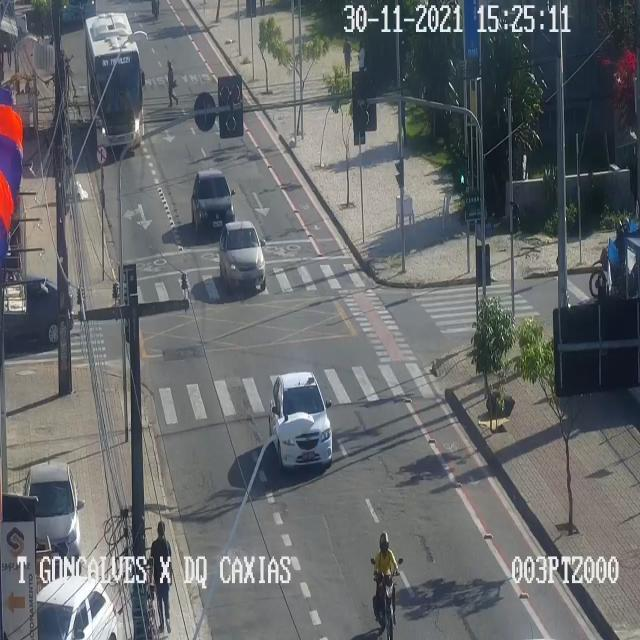Bus: (85, 12, 145, 144), (60, 0, 100, 31)
Car: (267, 370, 333, 470), (24, 461, 84, 569), (2, 278, 72, 354), (36, 573, 116, 639), (218, 221, 266, 296), (191, 170, 234, 237)
Motorcycle: (590, 216, 640, 300), (370, 528, 398, 639), (150, 0, 165, 29)
